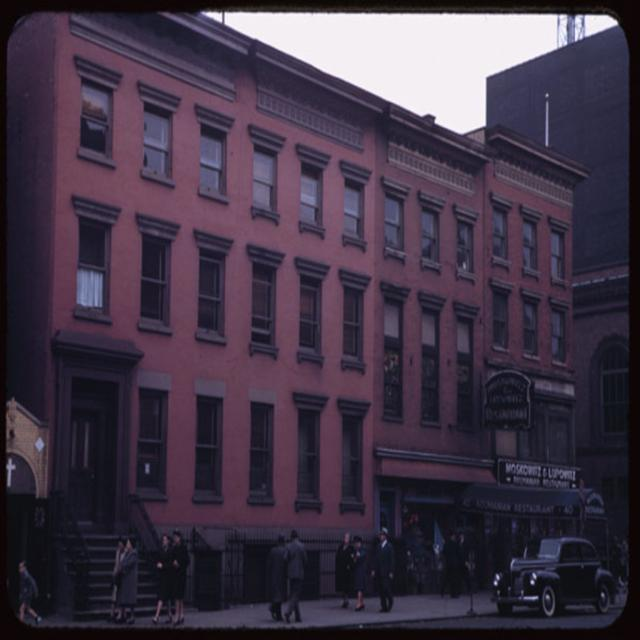car: (494, 534, 614, 622)
